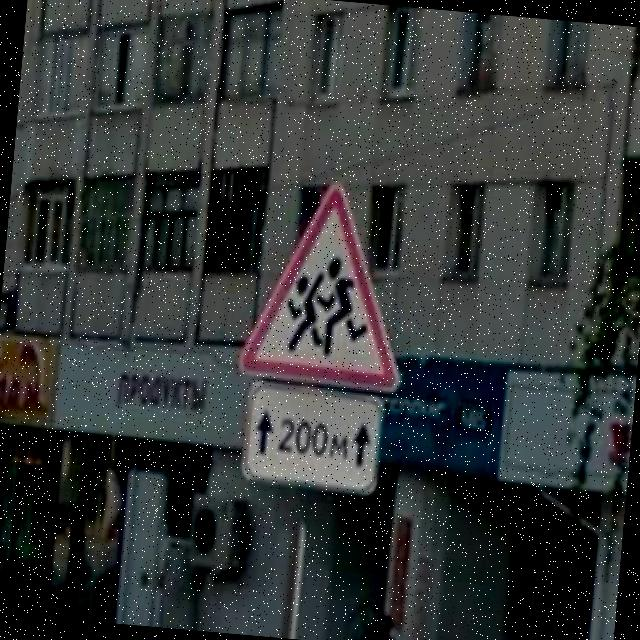Dzieci: (232, 167, 421, 401)
